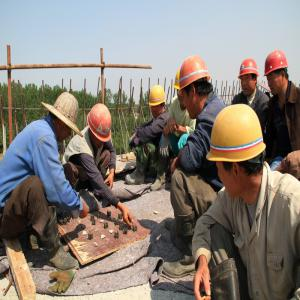none: (49, 92, 79, 140)
red: (181, 56, 210, 118), (88, 103, 113, 149), (264, 52, 288, 98), (239, 61, 260, 98)
yellow: (207, 102, 266, 206), (148, 87, 167, 119), (175, 72, 185, 107)
